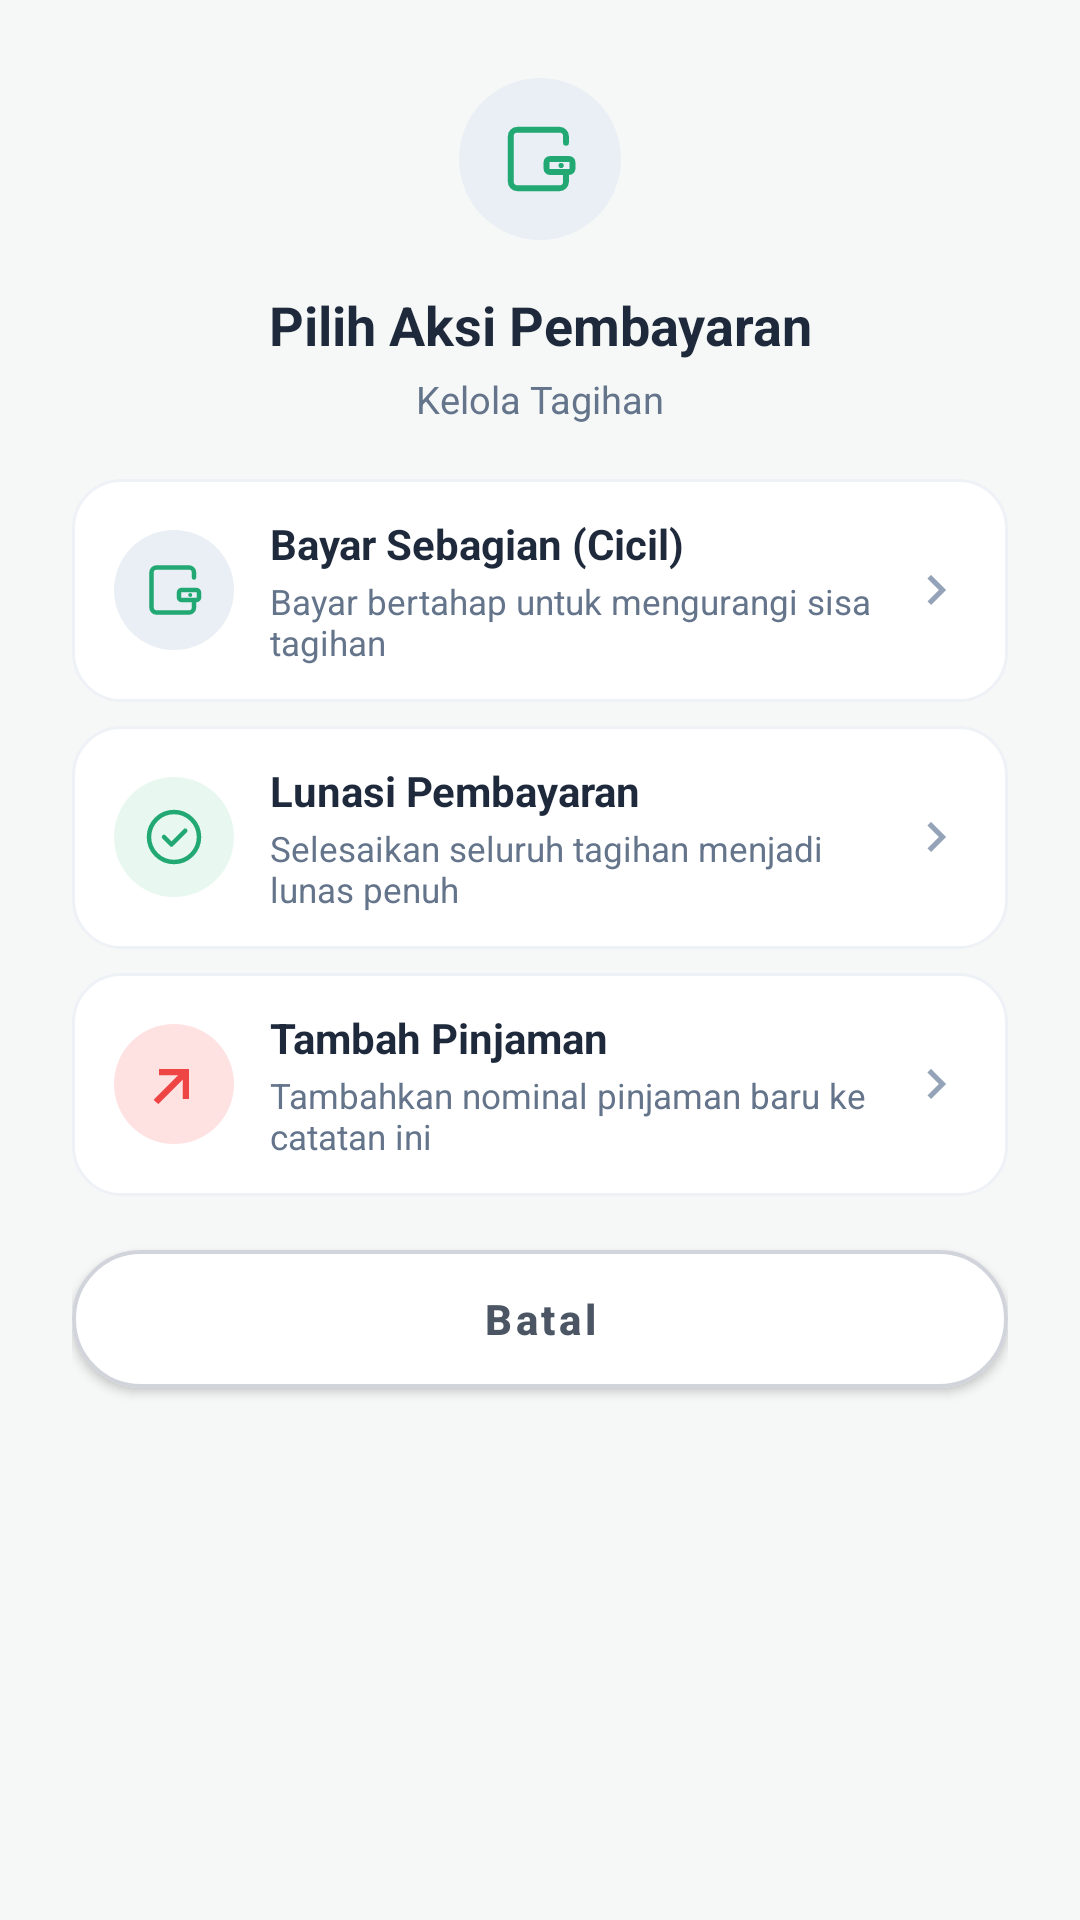

Where icons sit on this 1080 × 1920 app screen, as rect(x1, y1, x2, y2):
hupisan check circle: rect(146, 809, 202, 865)
hupisan debt arrow: rect(154, 1069, 189, 1104)
hupisan wallet: rect(149, 565, 202, 615)
keyboard arrow right: rect(927, 575, 946, 605), rect(927, 822, 946, 852), rect(927, 1069, 946, 1099)
